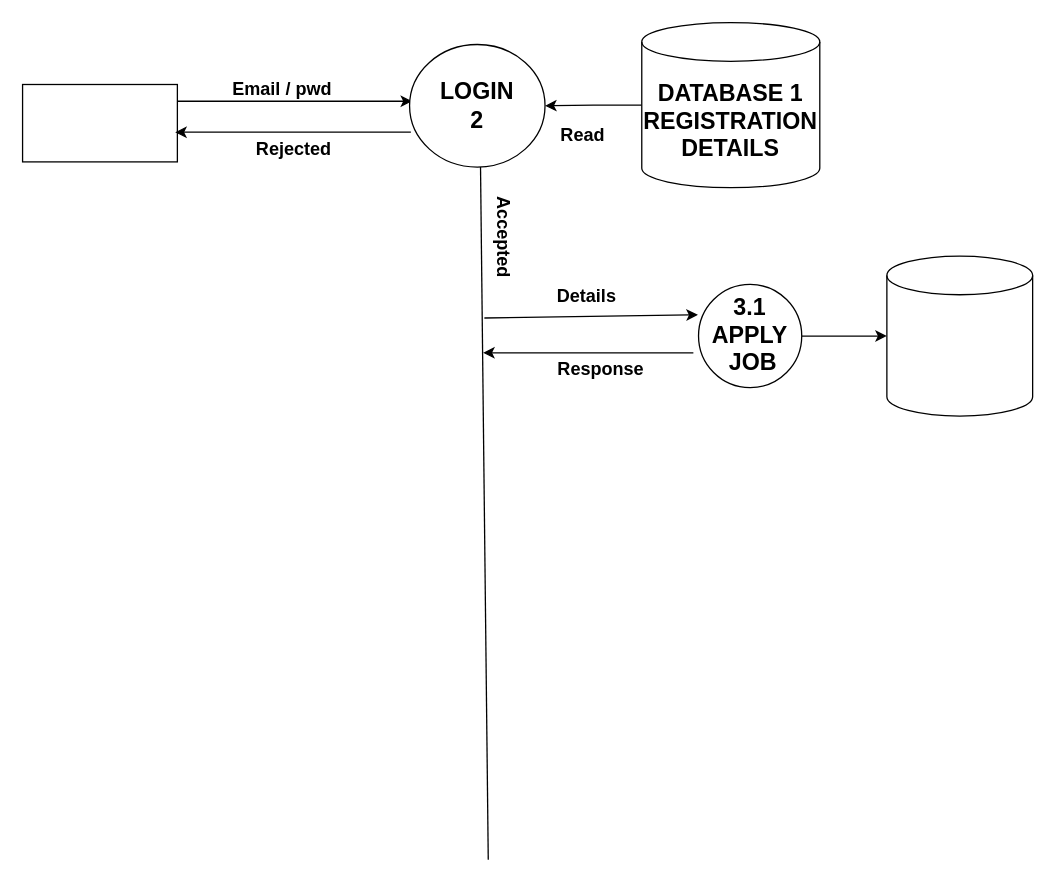
Some shapes in this 1055 by 884 pixel diagram are drawn without their labels. Here are the shapes that lost their labels. From the top down, the centre of each, then its label:
point (99, 122): STUDENT
point (959, 335): DATABASE 2 JOB
